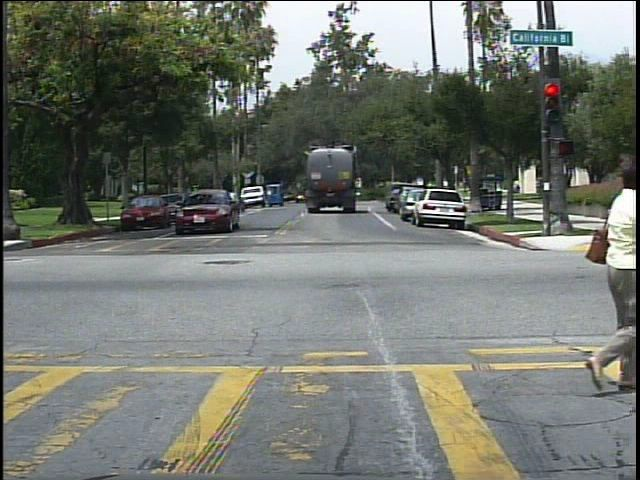person: (569, 135, 637, 408), (513, 180, 526, 199)
